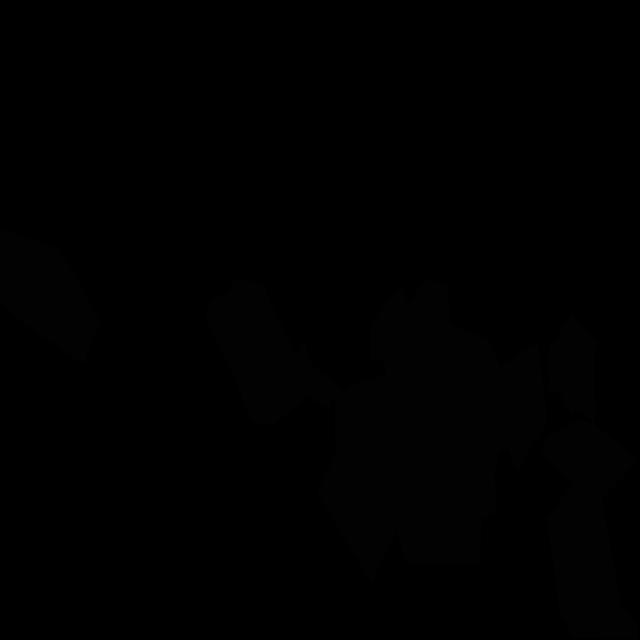cardboard: (317, 278, 548, 583), (541, 419, 638, 639), (205, 278, 345, 425), (0, 229, 100, 365), (548, 314, 598, 423)
